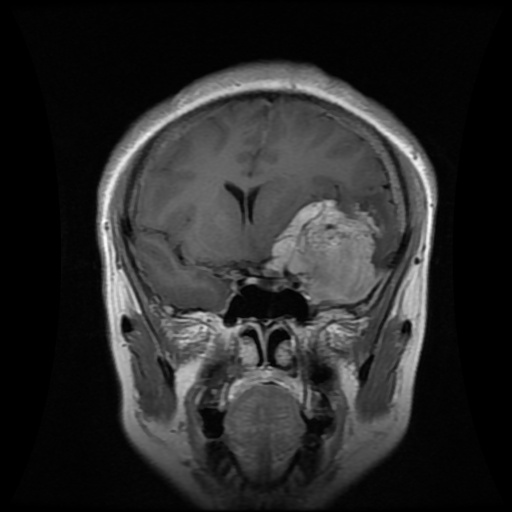meningioma: (264, 198, 384, 305)
